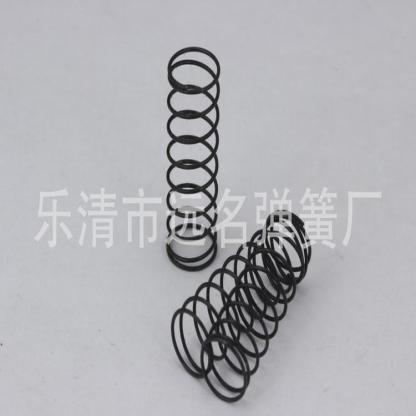FOD: (168, 207, 313, 380), (199, 214, 310, 403), (163, 43, 226, 274)
